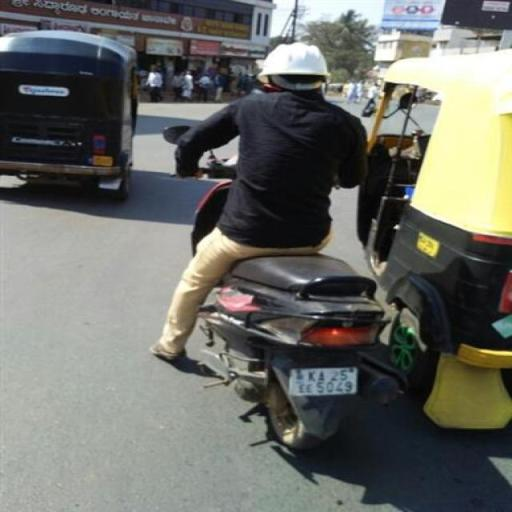using mobile: (254, 81, 291, 98)
